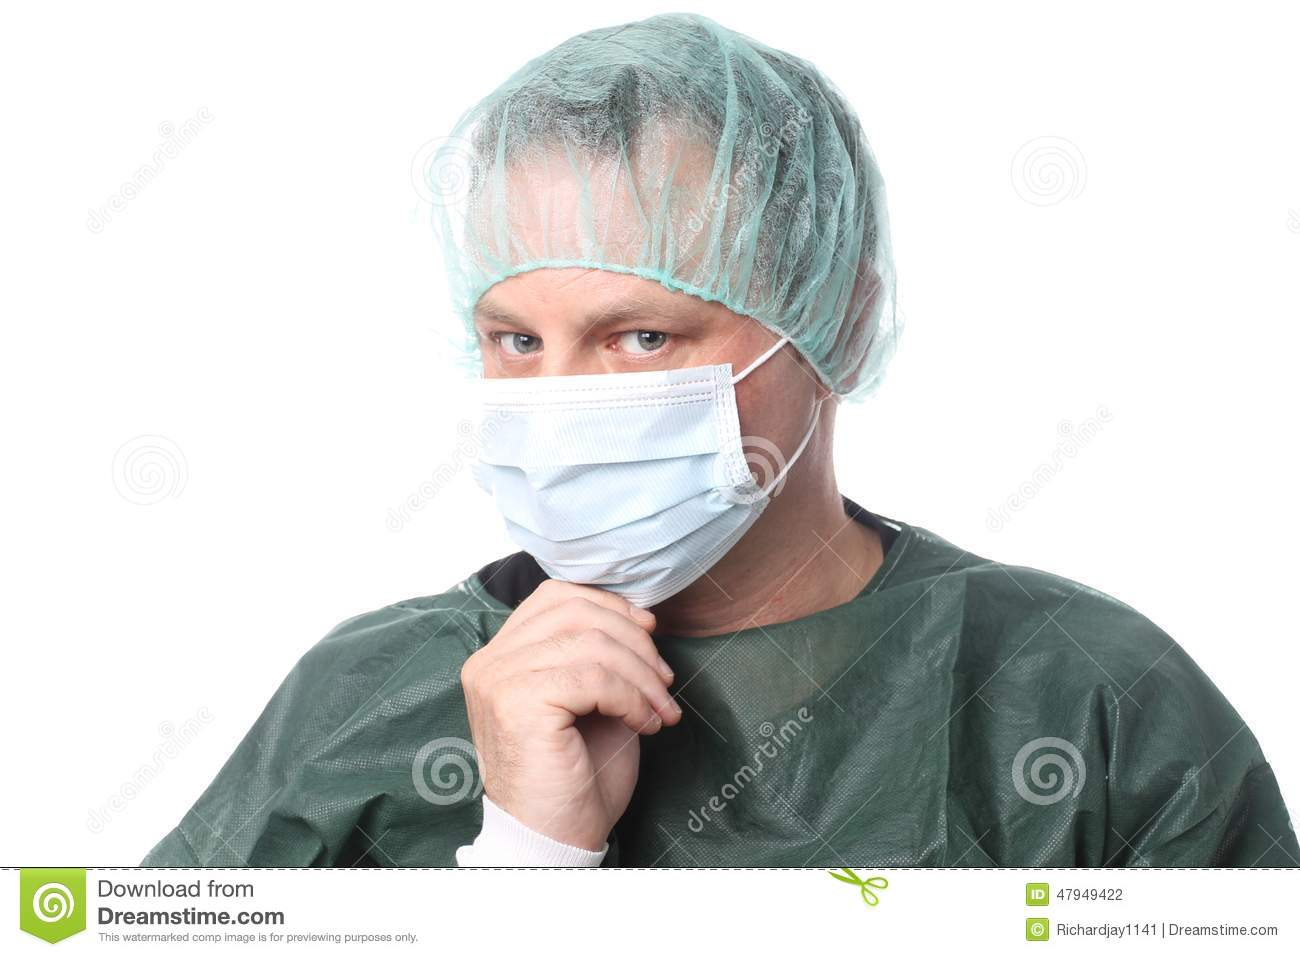mask: (458, 367, 779, 592)
